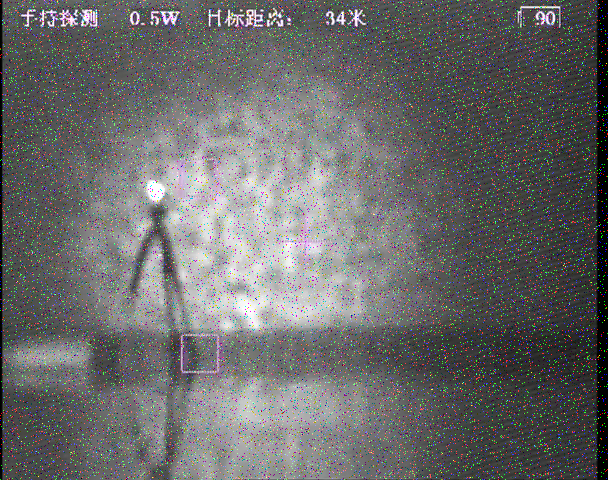my: (143, 178, 166, 203)
